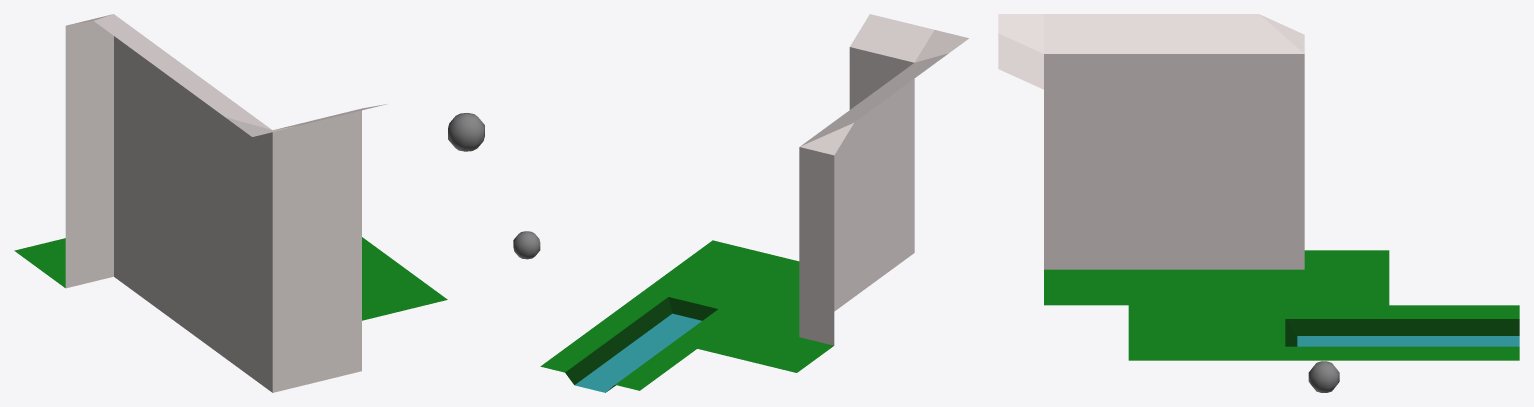
The model's file is SM_FinalTiles.fbx.
The picture shows the model from 3 angles, left to right: view 1: azimuth 30°, elevation 25°; view 2: azimuth 150°, elevation 25°; view 3: azimuth 270°, elevation 25°; orthographic projection. The views are drawn at different scales.
Parts seen in each view (by area): view 1: Wall_InnerCorner_Extension, Wall_InnerCorner, Wall_OuterCorner, Wall_OuterCorner_Extension, Wall_Up_Extension, Wall_Up, Grass, Wall_Up_Finish, Wall_InnerCorner_Finish, Solid; view 2: Wall_OuterCorner, Grass_WaterEnd, Grass_Water, Grass, Wall_InnerCorner_Extension, Wall_Up, Wall_InnerCorner_Finish, Wall_OuterCorner_Extension, Wall_Up_Extension, Wall_InnerCorner, Wall_Up_Finish, Wall_OuterCorner_Finish (+1 smaller); view 3: Wall_Up, Wall_Up_Extension, Wall_InnerCorner, Wall_OuterCorner, Wall_InnerCorner_Extension, Grass, Grass_Water, Grass_WaterEnd, Wall_InnerCorner_Finish, Wall_OuterCorner_Extension, Wall_Up_Finish, Wall_OuterCorner_Finish (+1 smaller).
Boxes of the visible parts, bbox=[...] form: Wall_InnerCorner_Extension: bbox=[221, 110, 361, 273]; Wall_InnerCorner: bbox=[221, 236, 361, 392]; Wall_OuterCorner: bbox=[14, 158, 141, 296]; Wall_OuterCorner_Extension: bbox=[65, 21, 141, 177]; Wall_Up_Extension: bbox=[141, 56, 220, 235]; Wall_Up: bbox=[141, 178, 220, 354]; Grass: bbox=[362, 241, 447, 320]; Wall_Up_Finish: bbox=[94, 21, 220, 92]; Wall_InnerCorner_Finish: bbox=[173, 79, 387, 136]; Solid: bbox=[448, 113, 484, 151]; Wall_OuterCorner: bbox=[697, 251, 834, 372]; Grass_WaterEnd: bbox=[598, 282, 754, 350]; Grass_Water: bbox=[540, 324, 696, 392]; Grass: bbox=[655, 240, 799, 306]; Wall_InnerCorner_Extension: bbox=[849, 47, 914, 193]; Wall_Up: bbox=[755, 195, 876, 317]; Wall_InnerCorner_Finish: bbox=[850, 14, 968, 89]; Wall_OuterCorner_Extension: bbox=[799, 147, 834, 259]; Wall_Up_Extension: bbox=[834, 106, 876, 225]; Wall_InnerCorner: bbox=[877, 167, 914, 279]; Wall_Up_Finish: bbox=[820, 80, 911, 131]; Wall_OuterCorner_Finish: bbox=[800, 122, 853, 155]; Wall_Up: bbox=[1128, 172, 1258, 305]; Wall_Up_Extension: bbox=[1128, 54, 1258, 171]; Wall_InnerCorner: bbox=[1044, 172, 1128, 305]; Wall_OuterCorner: bbox=[1259, 172, 1389, 305]; Wall_InnerCorner_Extension: bbox=[1044, 54, 1128, 171]; Grass: bbox=[1128, 305, 1258, 360]; Grass_Water: bbox=[1389, 305, 1519, 360]; Grass_WaterEnd: bbox=[1259, 305, 1389, 360]; Wall_InnerCorner_Finish: bbox=[998, 14, 1128, 89]; Wall_OuterCorner_Extension: bbox=[1259, 54, 1304, 171]; Wall_Up_Finish: bbox=[1128, 14, 1258, 53]; Wall_OuterCorner_Finish: bbox=[1259, 14, 1304, 53].
Bounding box in the file's own units: 62.26 × 42 × 80.
